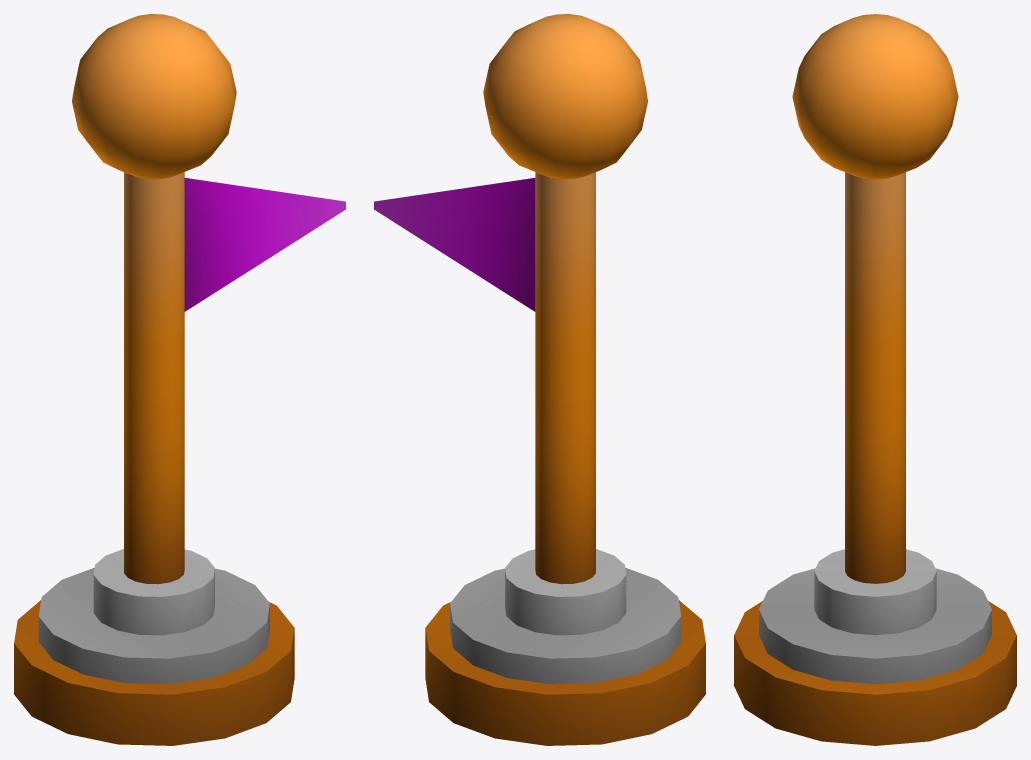
Rendered from Checkpoint.fbx.
3 views of the same model, side by side, from view 1: azimuth 30°, elevation 25°; view 2: azimuth 150°, elevation 25°; view 3: azimuth 270°, elevation 25° (orthographic).
Parts seen in each view (by area): view 1: Pole, Flag; view 2: Pole, Flag; view 3: Pole.
Boxes of the visible parts, box(x1,y1,x2,y2) form: Pole: box(14, 14, 294, 745); Flag: box(184, 178, 345, 311); Pole: box(425, 14, 705, 745); Flag: box(374, 178, 535, 311); Pole: box(734, 14, 1016, 745).
Size of the model in its own units: 87.77 by 178 by 68.46.
